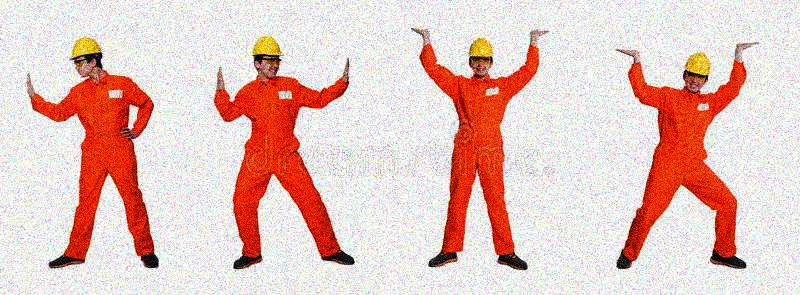helmet: (68, 35, 103, 78), (250, 35, 284, 79), (681, 51, 712, 93), (466, 35, 495, 76)
